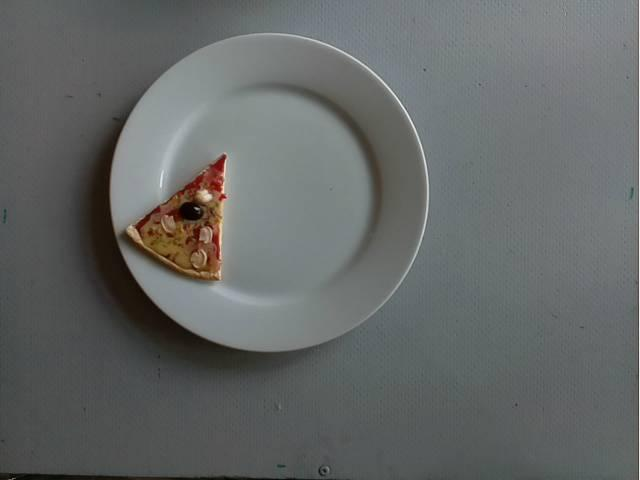Pizza slice (mushroom): (126, 150, 227, 281)
